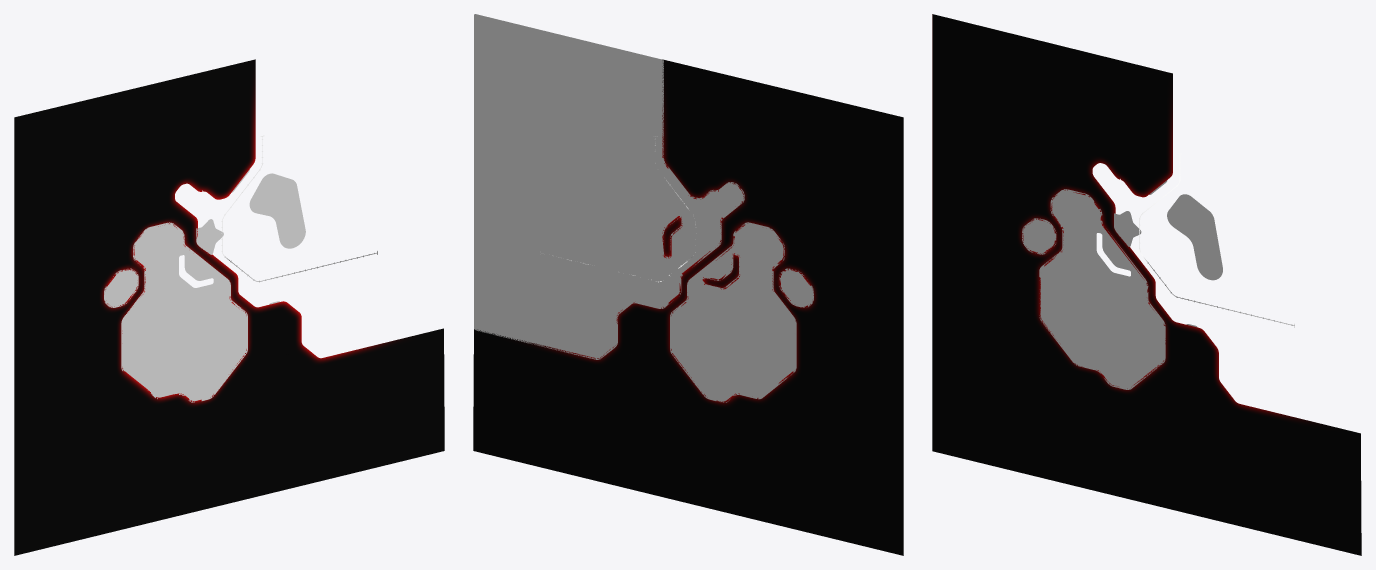
Rendered from Copenhagen.glb.
The picture shows the model from 3 angles, left to right: view 1: azimuth 30°, elevation 25°; view 2: azimuth 150°, elevation 25°; view 3: azimuth 330°, elevation 25°; orthographic projection.
Visible parts, largest first — view 1: MSH_Copenhagen_Water, MSH_Copenhagen_Land, MSH_Copenhagen_Grass, MSH_Map_Grass_Middle_05 (1), MSH_Map_Grass_Middle_03, MSH_Map_Grass_Edge_02; view 2: MSH_Copenhagen_Water, MSH_Copenhagen_Land, MSH_Copenhagen_Grass, MSH_Map_Grass_Middle_05 (1), MSH_Map_Grass_Middle_03; view 3: MSH_Copenhagen_Water, MSH_Copenhagen_Land, MSH_Copenhagen_Grass, MSH_Map_Grass_Middle_05 (1), MSH_Map_Grass_Middle_03, MSH_Map_Grass_Edge_02.
Part boxes in pixels (x1,y1,x2,y2): MSH_Copenhagen_Water: (14,59,444,555); MSH_Copenhagen_Land: (104,222,247,402); MSH_Copenhagen_Grass: (133,173,305,400); MSH_Map_Grass_Middle_05 (1): (130,323,178,377); MSH_Map_Grass_Middle_03: (200,319,234,375); MSH_Map_Grass_Edge_02: (173,290,220,312); MSH_Copenhagen_Water: (473,59,903,555); MSH_Copenhagen_Land: (474,14,813,402); MSH_Copenhagen_Grass: (612,174,783,400); MSH_Map_Grass_Middle_05 (1): (739,323,779,377); MSH_Map_Grass_Middle_03: (683,321,717,375); MSH_Copenhagen_Water: (932,14,1361,555); MSH_Copenhagen_Land: (1022,189,1165,389); MSH_Copenhagen_Grass: (1051,194,1222,389); MSH_Map_Grass_Middle_05 (1): (1048,288,1096,346); MSH_Map_Grass_Middle_03: (1118,317,1152,368); MSH_Map_Grass_Edge_02: (1090,273,1143,299).
Bounding box in the file's own units: 149 × 145 × 0.00401.
Materials: 5 (1 with a texture image).
